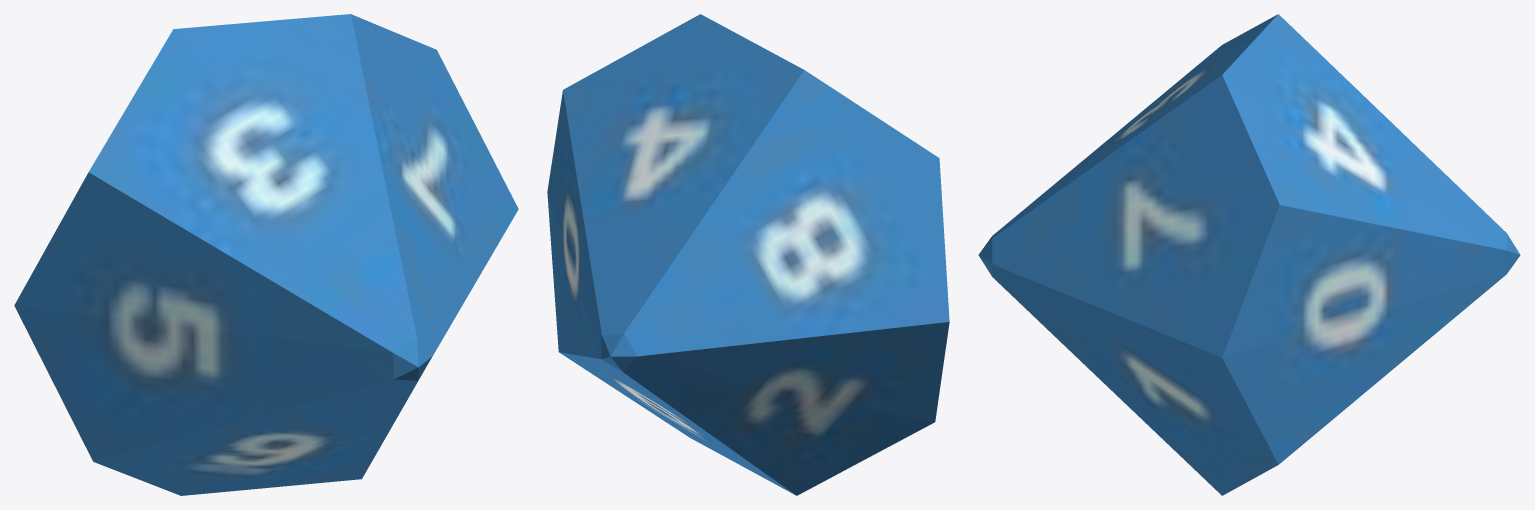
3 views of the same model, side by side, from view 1: azimuth 30°, elevation 25°; view 2: azimuth 150°, elevation 25°; view 3: azimuth 270°, elevation 25° (orthographic). The views are drawn at different scales.
Parts seen in each view (by area): view 1: d10.obj; view 2: d10.obj; view 3: d10.obj.
Part boxes in pixels (box(x1,y1,x2,y2)): d10.obj: box(14, 14, 518, 495); d10.obj: box(547, 14, 949, 495); d10.obj: box(978, 14, 1520, 495).
Bounding box in the file's own units: 0.896 × 0.8542 × 1.
1 material, 1 textured.
